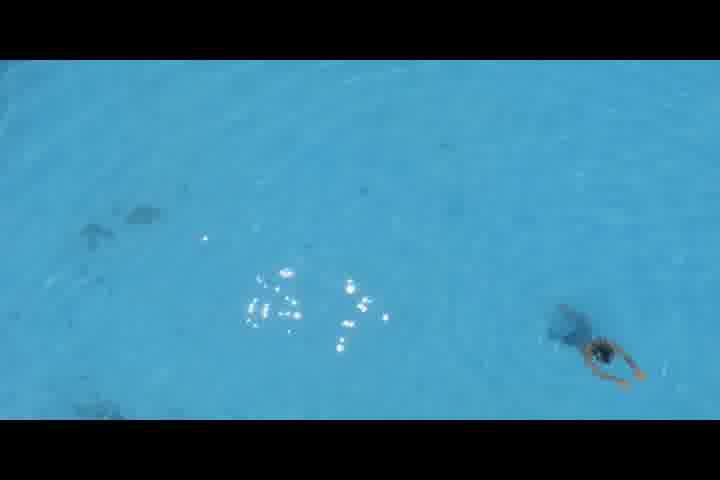human: (540, 302, 646, 389)
